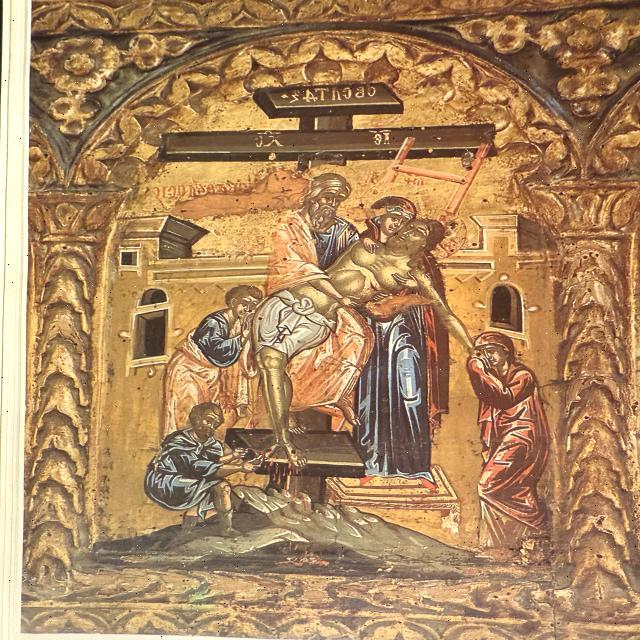christ_crucifiction: (110, 64, 531, 570)
